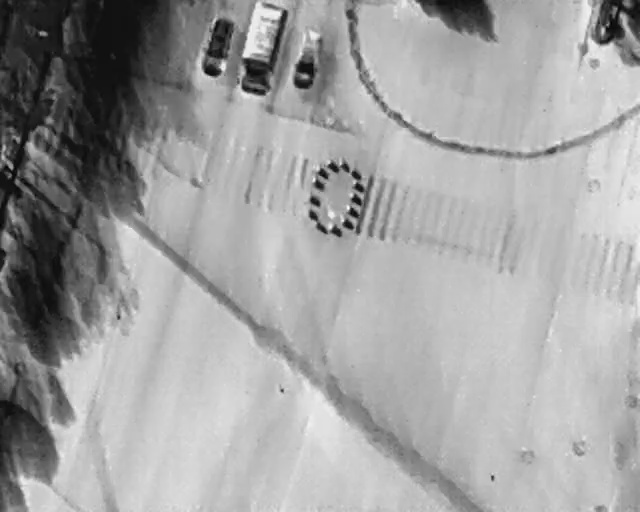Car: (197, 15, 237, 79), (288, 25, 326, 92)
OtherVehicle: (233, 0, 289, 98)
